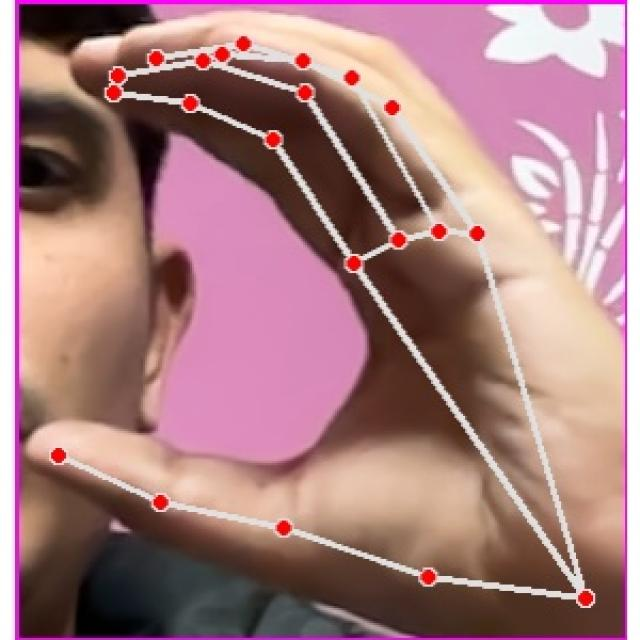C: (49, 19, 623, 640)
